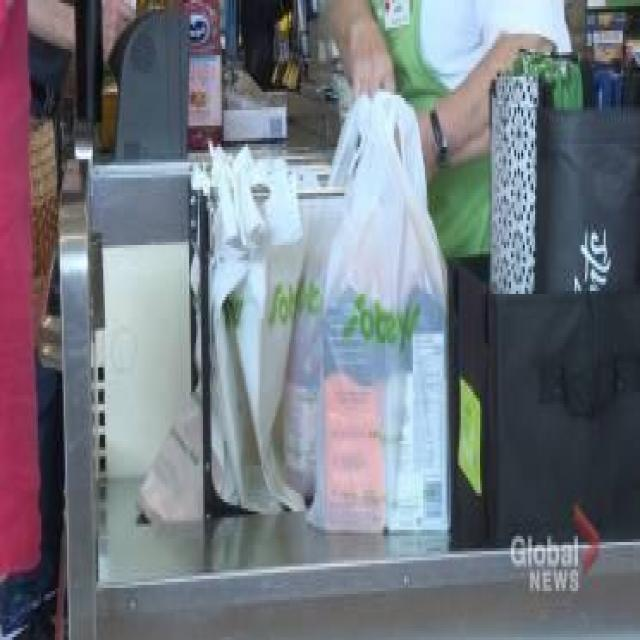plastic_bag: (292, 93, 452, 537)
